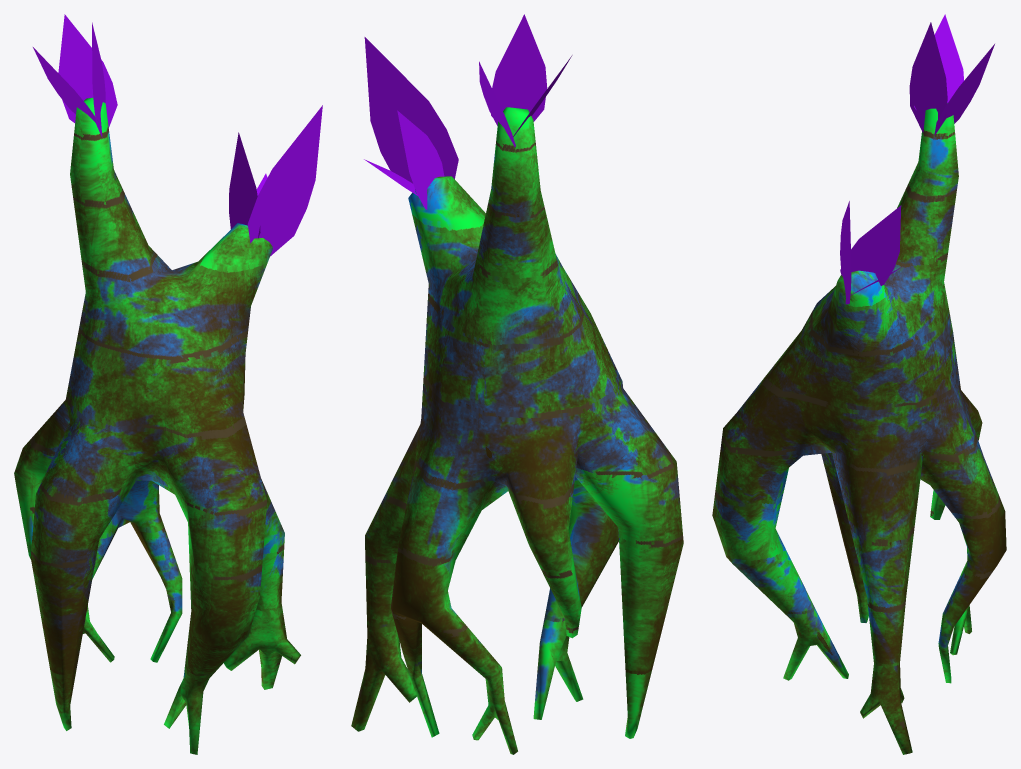
The model's file is Rooble Root UV Unwrap .fbx.
3 views of the same model, side by side, from view 1: azimuth 30°, elevation 25°; view 2: azimuth 150°, elevation 25°; view 3: azimuth 270°, elevation 25° (orthographic). The views are drawn at different scales.
Parts seen in each view (by area): view 1: Tuber, Leaves; view 2: Tuber, Leaves; view 3: Tuber, Leaves.
Boxes of the visible parts, x1,y1,x2,y2 form: Tuber: (14,97,300,754); Leaves: (33,14,322,256); Tuber: (351,107,683,754); Leaves: (364,14,572,209); Tuber: (712,103,1006,754); Leaves: (840,14,994,304).
Bounding box in the file's own units: 195 × 454 × 184.
